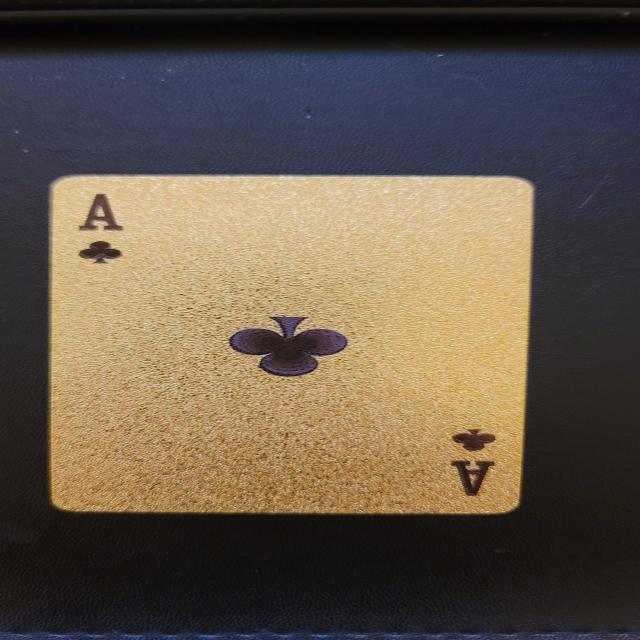Ace of clubs: (48, 177, 532, 514)
